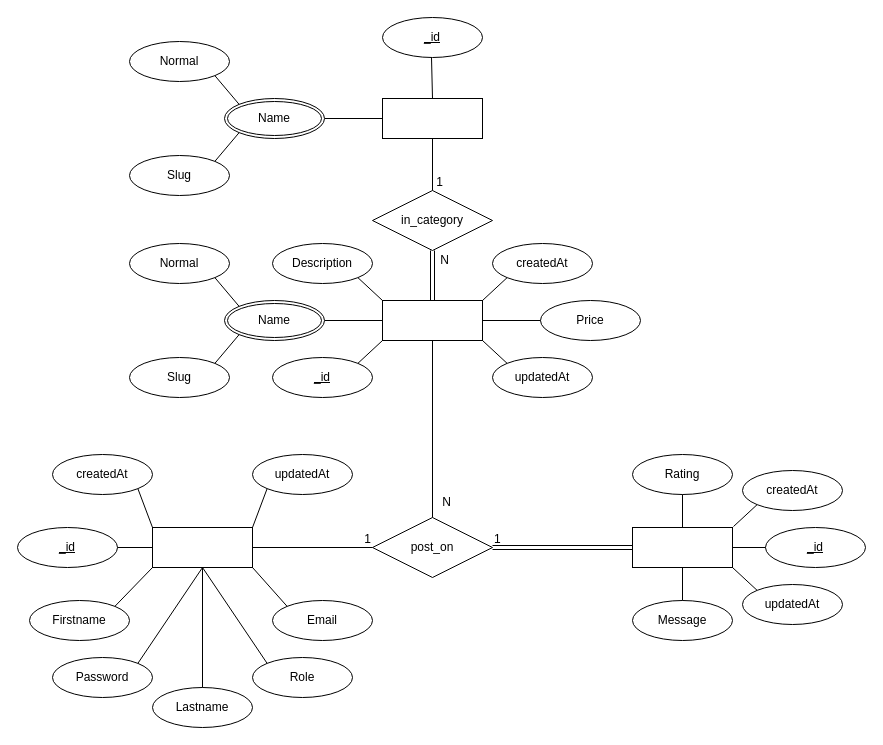
This 883x745 diagram has some shape labels left out. Each missing label, with the centre of its shape:
Category: the point at 432,118
Product: the point at 432,320
Review: the point at 682,547
User: the point at 202,547
